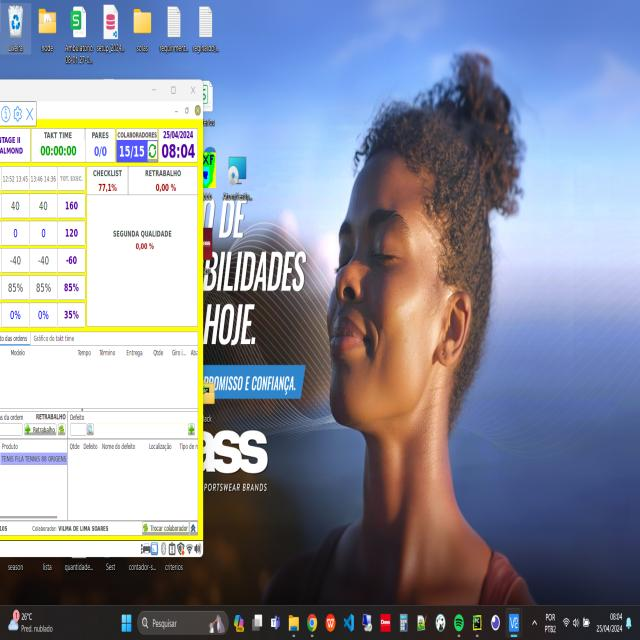takt_time: (34, 131, 80, 160)
